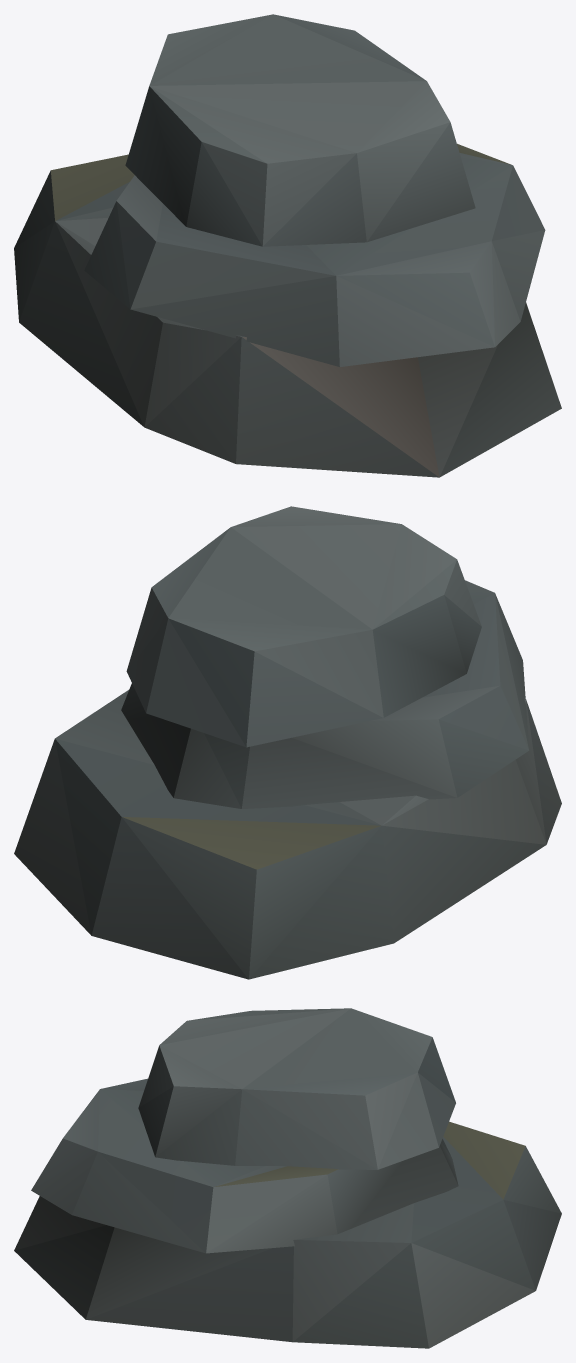
The model's file is rift_rock.glb.
3 renders of one model, top to bottom at view 1: azimuth 30°, elevation 25°; view 2: azimuth 150°, elevation 25°; view 3: azimuth 270°, elevation 25°, orthographic. The views are drawn at different scales.
Visible parts, largest first — view 1: ca_rift_rock; view 2: ca_rift_rock; view 3: ca_rift_rock.
Part boxes in pixels (bbox=[...]): ca_rift_rock: bbox=[14, 14, 561, 477]; ca_rift_rock: bbox=[14, 506, 561, 979]; ca_rift_rock: bbox=[14, 1008, 561, 1348].
Size of the model in its own units: 0.6729 by 0.4303 by 0.977.
1 material, 1 textured.
